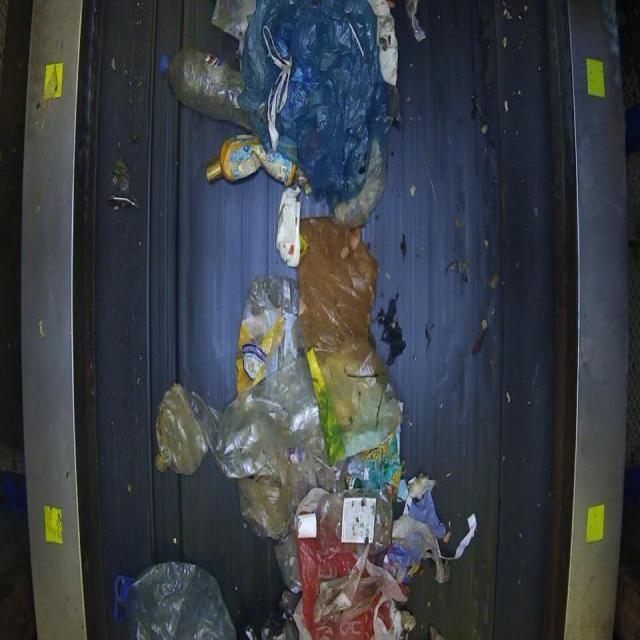trashbin: (112, 559, 238, 639)
